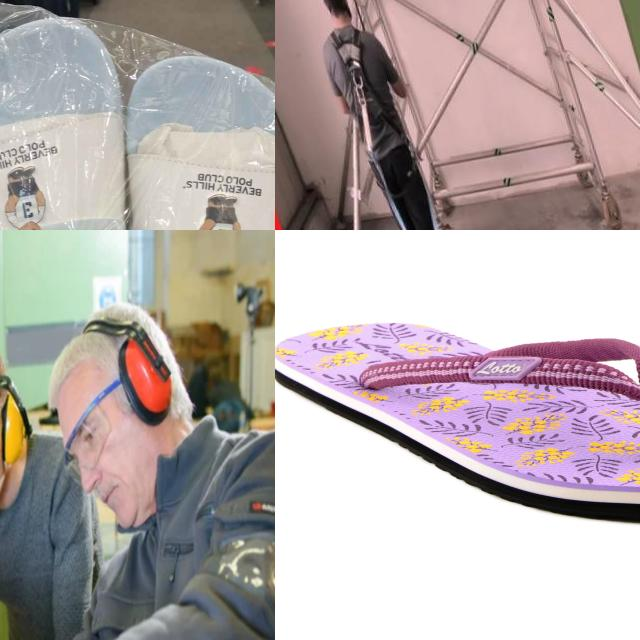Ear-protection: (52, 320, 187, 536), (0, 334, 36, 527)
Harness: (330, 28, 373, 160)
Sandals: (275, 320, 640, 526), (0, 0, 275, 230)
glasses: (55, 368, 132, 498)
